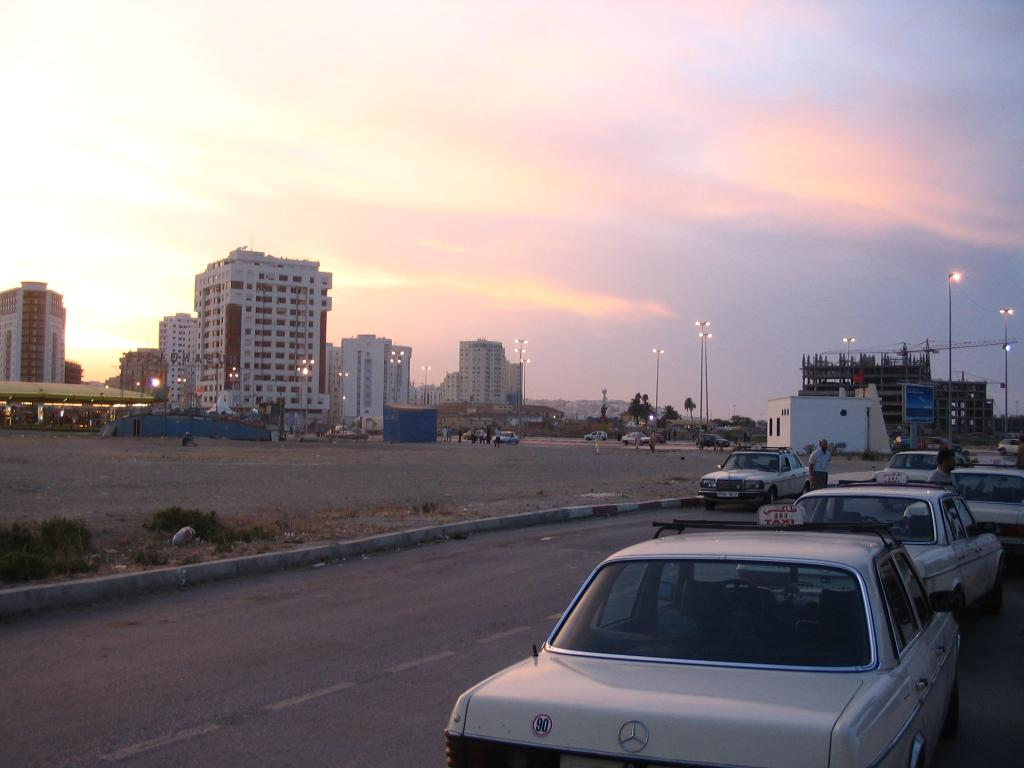Car: (451, 533, 964, 768), (774, 475, 1004, 603), (938, 460, 1023, 574), (696, 442, 811, 508), (867, 442, 964, 484), (623, 430, 659, 455), (993, 434, 1023, 458), (483, 430, 516, 447), (583, 427, 608, 442), (460, 422, 483, 437)
